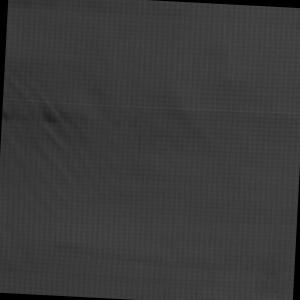Wrinkle: (1, 52, 143, 268)
